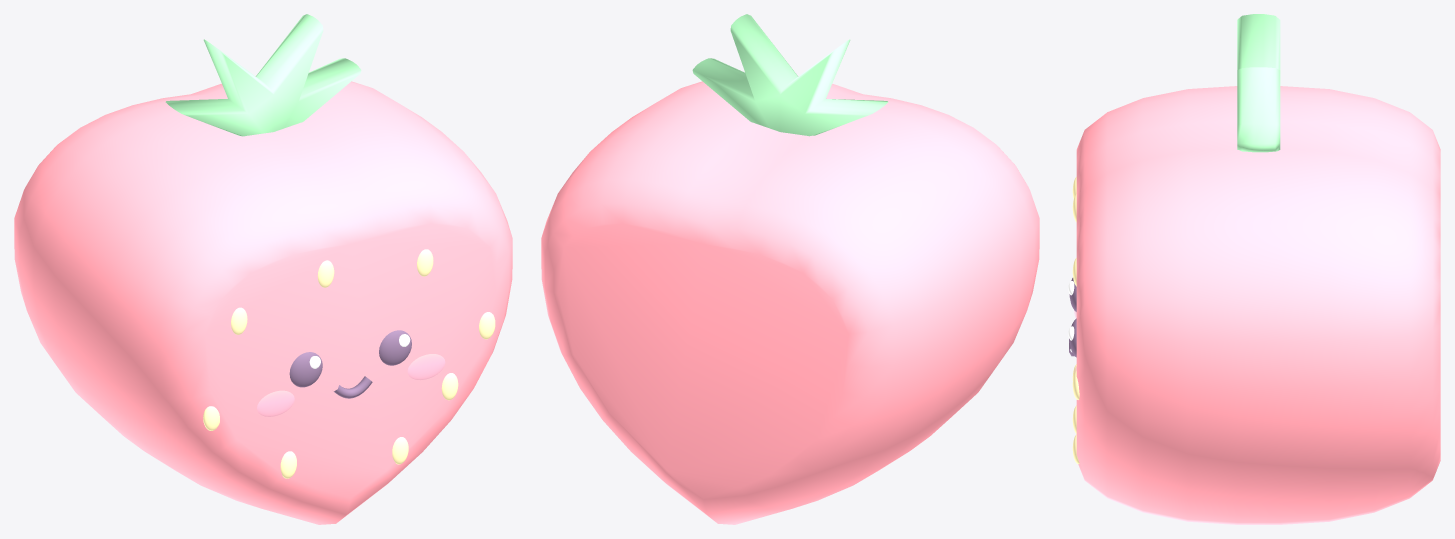
File: squishy_strawberry.glb
The picture shows the model from 3 angles, left to right: view 1: azimuth 30°, elevation 25°; view 2: azimuth 150°, elevation 25°; view 3: azimuth 270°, elevation 25°; orthographic projection. The views are drawn at different scales.
Visible parts, largest first — view 1: strawberry; view 2: strawberry; view 3: strawberry.
Part boxes in pixels (x1,y1,x2,y2): strawberry: (14, 14, 512, 524); strawberry: (541, 14, 1039, 524); strawberry: (1068, 14, 1440, 524).
Bounding box in the file's own units: 0.8933 × 1 × 0.6967.
